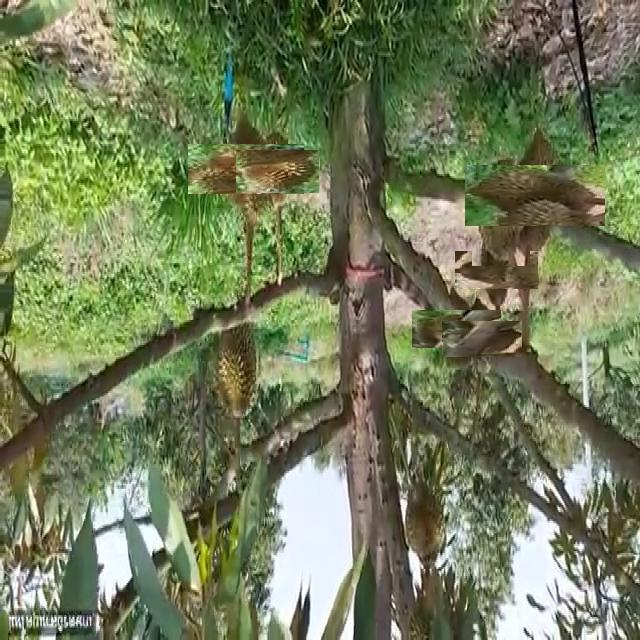durian: (484, 145, 586, 247), (204, 127, 288, 210), (472, 154, 530, 266), (213, 313, 265, 429), (403, 478, 450, 575), (425, 297, 489, 361), (246, 139, 309, 203), (466, 239, 528, 300), (453, 309, 511, 368)
